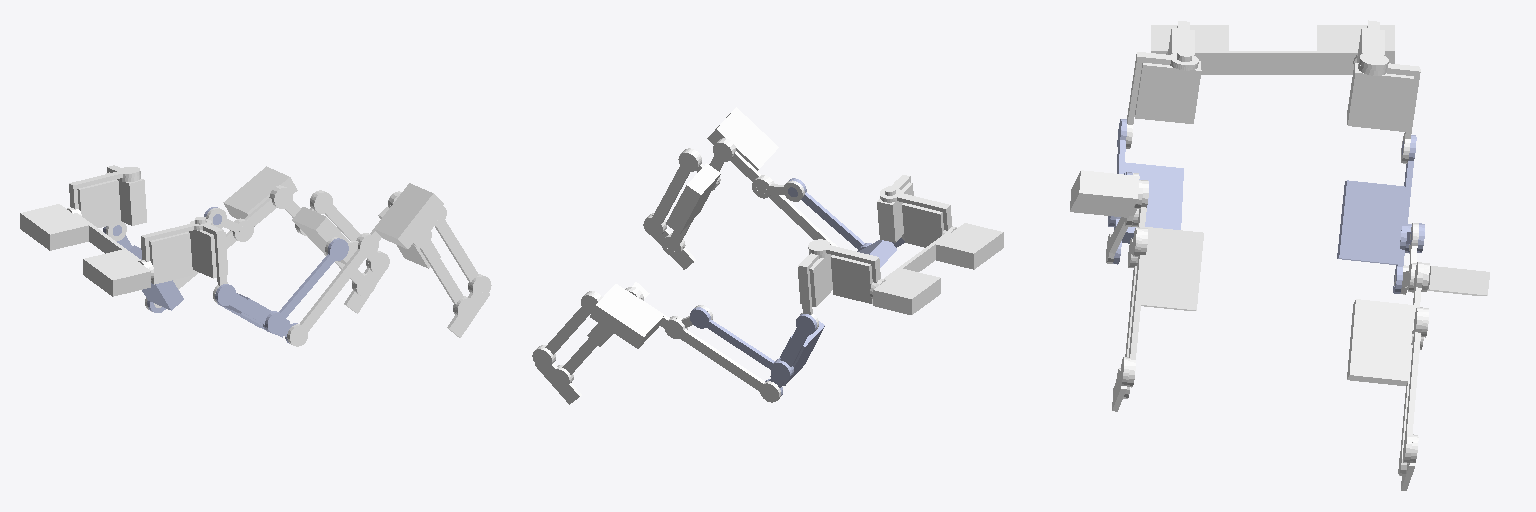
--- What the picture shows (computed from the rendered views, not written in the file) ---
The picture shows the robot from 3 angles, left to right: view 1: azimuth 30°, elevation 25°; view 2: azimuth 150°, elevation 25°; view 3: azimuth 270°, elevation 25°; orthographic projection.
Model assembly1_2.SLDASM with 25 links and 24 joints (3 continuous, 21 fixed), rooted at base_link, posed every joint at zero.
Visible links, largest first — view 1: base_link, knee l 2, knee r 2, hip l 1, hip r 1, ankle r 1, hip l 2, hip r 2, knee l 3, ankle l 1, knee l 1, ankle r 3 (+5 smaller); view 2: base_link, knee r 2, knee l 2, ankle l 1, hip r 1, hip l 1, hip r 2, knee r 1, hip l 2, knee r 3, ankle l 3, toe r 2 (+5 smaller); view 3: base_link, knee r 1, ankle r 1, ankle l 1, hip l 2, hip r 2, knee l 2, knee l 1, knee r 2, ankle r 3, ankle l 3, hip r 1 (+1 smaller).
Boxes of the visible links, x1,y1,x2,y2 form: base_link: (20, 204, 150, 296); knee l 2: (287, 183, 443, 346); knee r 2: (145, 166, 297, 311); hip l 1: (141, 220, 211, 284); hip r 1: (69, 167, 140, 227); ankle r 1: (272, 187, 374, 296); hip l 2: (189, 217, 227, 303); hip r 2: (106, 165, 146, 241); knee l 3: (265, 238, 348, 333); ankle l 1: (378, 191, 465, 314); knee l 1: (215, 284, 297, 343); ankle r 3: (312, 191, 389, 273); base_link: (873, 223, 1003, 314); knee r 2: (590, 284, 780, 402); knee l 2: (707, 107, 837, 246); ankle l 1: (662, 140, 734, 255); hip r 1: (808, 239, 880, 303); hip l 1: (881, 188, 952, 247); hip r 2: (798, 242, 832, 329); knee r 1: (765, 314, 824, 395); hip l 2: (877, 175, 913, 242); knee r 3: (690, 307, 791, 381); ankle l 3: (643, 151, 699, 236); toe r 2: (532, 347, 579, 404); base_link: (1151, 25, 1394, 74); knee r 1: (1337, 135, 1416, 293); ankle r 1: (1347, 262, 1423, 475); ankle l 1: (1123, 180, 1203, 398); hip l 2: (1126, 50, 1201, 148); hip r 2: (1347, 55, 1420, 163); knee l 2: (1070, 170, 1143, 263); knee l 1: (1113, 119, 1183, 264); knee r 2: (1394, 263, 1489, 295); ankle r 3: (1403, 307, 1422, 463); ankle l 3: (1121, 228, 1147, 387); hip r 1: (1353, 20, 1388, 70).
Bounding box of the posed robot: 0.481 × 0.3542 × 0.2716 m (x, y, z).
Meshes: 25 distinct files referenced, 23 mesh visuals loaded (23 binary STL); not drawn: 2 (reference not matched to a file when rendering).

URDF robot description (assembly1_2.SLDASM):
<?xml version="1.0" encoding="utf-8"?>
<!-- This URDF was automatically created by SolidWorks to URDF Exporter! Originally created by Stephen Brawner ([email redacted]) 
     Commit Version: 1.6.0-1-g15f4949  Build Version: 1.6.7594.29634
     For more information, please see http://wiki.ros.org/sw_urdf_exporter -->
<robot
  name="assembly1_2.SLDASM">
  <link
    name="base_link">
    <inertial>
      <origin
        xyz="-0.191106719385108 -0.0780612386754589 0.0973799886130136"
        rpy="0 0 0" />
      <mass
        value="0.149382516846965" />
      <inertia
        ixx="0.000744795170187658"
        ixy="-3.84089187962171E-20"
        ixz="-6.18144286387083E-21"
        iyy="4.41983562997799E-05"
        iyz="-1.49309295627939E-20"
        izz="0.000778901005787022" />
    </inertial>
    <visual>
      <origin
        xyz="0 0 0"
        rpy="0 0 0" />
      <geometry>
        <mesh
          filename="package://assembly1_2.SLDASM/meshes/base_link.STL" />
      </geometry>
      <material
        name="">
        <color
          rgba="1 1 1 1" />
      </material>
    </visual>
    <collision>
      <origin
        xyz="0 0 0"
        rpy="0 0 0" />
      <geometry>
        <mesh
          filename="package://assembly1_2.SLDASM/meshes/base_link.STL" />
      </geometry>
    </collision>
  </link>
  <link
    name="hip r 1">
    <inertial>
      <origin
        xyz="1.73472347597681E-18 0.0120268950920231 0.058098429367129"
        rpy="0 0 0" />
      <mass
        value="0.0591929214873841" />
      <inertia
        ixx="3.31698592544822E-05"
        ixy="4.65868120989865E-21"
        ixz="2.85873619698326E-21"
        iyy="2.04750891988638E-05"
        iyz="2.87486448422093E-06"
        izz="1.64834624293157E-05" />
    </inertial>
    <visual>
      <origin
        xyz="0 0 0"
        rpy="0 0 0" />
      <geometry>
        <mesh
          filename="package://assembly1_2.SLDASM/meshes/hip r 1.STL" />
      </geometry>
      <material
        name="">
        <color
          rgba="1 1 1 1" />
      </material>
    </visual>
    <collision>
      <origin
        xyz="0 0 0"
        rpy="0 0 0" />
      <geometry>
        <mesh
          filename="package://assembly1_2.SLDASM/meshes/hip r 1.STL" />
      </geometry>
    </collision>
  </link>
  <joint
    name="hip r 1"
    type="continuous">
    <origin
      xyz="-0.076807 0.0019388 0.09738"
      rpy="1.5708 -0.13329 -1.5708" />
    <parent
      link="base_link" />
    <child
      link="hip r 1" />
    <axis
      xyz="0 0 1" />
  </joint>
  <link
    name="hip r 2">
    <inertial>
      <origin
        xyz="1.38777878078145E-17 0.0120268950920231 0.00559842936712893"
        rpy="0 0 0" />
      <mass
        value="0.0591929214873841" />
      <inertia
        ixx="3.31698592544822E-05"
        ixy="-8.470329472543E-22"
        ixz="-3.91752738105114E-21"
        iyy="2.04750891988638E-05"
        iyz="2.87486448422093E-06"
        izz="1.64834624293157E-05" />
    </inertial>
    <visual>
      <origin
        xyz="0 0 0"
        rpy="0 0 0" />
      <geometry>
        <mesh
          filename="package://assembly1_2.SLDASM/meshes/hip r 2.STL" />
      </geometry>
      <material
        name="">
        <color
          rgba="1 1 1 1" />
      </material>
    </visual>
    <collision>
      <origin
        xyz="0 0 0"
        rpy="0 0 0" />
      <geometry>
        <mesh
          filename="package://assembly1_2.SLDASM/meshes/hip r 2.STL" />
      </geometry>
    </collision>
  </link>
  <joint
    name="hip r 2"
    type="continuous">
    <origin
      xyz="0 0 0.0125"
      rpy="1.5708 1.5337 3.1416" />
    <parent
      link="hip r 1" />
    <child
      link="hip r 2" />
    <axis
      xyz="0 0 1" />
  </joint>
  <link
    name="knee r 1">
    <inertial>
      <origin
        xyz="-0.0030756238754094 -0.0625136599464606 -0.0190191967667686"
        rpy="0 0 0" />
      <mass
        value="0.0774385053688012" />
      <inertia
        ixx="6.61264522065945E-05"
        ixy="-2.093228038064E-06"
        ixz="2.04803762600533E-07"
        iyy="2.36834854159962E-05"
        iyz="4.16274332935502E-06"
        izz="4.77952428865367E-05" />
    </inertial>
    <visual>
      <origin
        xyz="0 0 0"
        rpy="0 0 0" />
      <geometry>
        <mesh
          filename="package://assembly1_2.SLDASM/meshes/knee r 1.STL" />
      </geometry>
      <material
        name="">
        <color
          rgba="0.792156862745098 0.819607843137255 0.933333333333333 1" />
      </material>
    </visual>
    <collision>
      <origin
        xyz="0 0 0"
        rpy="0 0 0" />
      <geometry>
        <mesh
          filename="package://assembly1_2.SLDASM/meshes/knee r 1.STL" />
      </geometry>
    </collision>
  </link>
  <joint
    name="knee r 1"
    type="continuous">
    <origin
      xyz="0 0 -0.04"
      rpy="1.5708 -0.52466 0" />
    <parent
      link="hip r 2" />
    <child
      link="knee r 1" />
    <axis
      xyz="0 0 1" />
  </joint>
  <link
    name="knee r 2">
    <inertial>
      <origin
        xyz="0.00240716222491634 -0.156089099156079 -0.0522148574584647"
        rpy="0 0 0" />
      <mass
        value="0.083279839836233" />
      <inertia
        ixx="0.000228137954582334"
        ixy="3.42048794543038E-06"
        ixz="5.81808969974627E-07"
        iyy="2.7149236461316E-05"
        iyz="-3.41971375908056E-05"
        izz="0.000206358513925763" />
    </inertial>
    <visual>
      <origin
        xyz="0 0 0"
        rpy="0 0 0" />
      <geometry>
        <mesh
          filename="package://assembly1_2.SLDASM/meshes/knee r 2.STL" />
      </geometry>
      <material
        name="">
        <color
          rgba="1 1 1 1" />
      </material>
    </visual>
    <collision>
      <origin
        xyz="0 0 0"
        rpy="0 0 0" />
      <geometry>
        <mesh
          filename="package://assembly1_2.SLDASM/meshes/knee r 2.STL" />
      </geometry>
    </collision>
  </link>
<!--  important -->
  <joint
    name="knee r 2"
    type="fixed">
    <origin
      xyz="0 -0.11 -0.016999"
      rpy="0 0 1.4832" />
    <parent
      link="knee r 1" />
    <child
      link="knee r 2" />
    <axis
      xyz="0 0 1" />
  </joint>
  <link
    name="knee r 5">
    <inertial>
      <origin
        xyz="0.00271053743745577 0.0246252577409291 0.00250000000000004"
        rpy="0 0 0" />
      <mass
        value="0.00436559859124243" />
      <inertia
        ixx="1.63153940888603E-06"
        ixy="-7.58353672029307E-08"
        ixz="-1.05879118406788E-22"
        iyy="1.97587444260464E-07"
        iyz="-4.19587365717523E-22"
        izz="1.81093685901632E-06" />
    </inertial>
    <visual>
      <origin
        xyz="0 0 0"
        rpy="0 0 0" />
      <geometry>
        <mesh
          filename="package://assembly1_2.SLDASM/meshes/knee r 5.STL" />
      </geometry>
      <material
        name="">
        <color
          rgba="1 1 1 1" />
      </material>
    </visual>
    <collision>
      <origin
        xyz="0 0 0"
        rpy="0 0 0" />
      <geometry>
        <mesh
          filename="package://assembly1_2.SLDASM/meshes/knee r 5.STL" />
      </geometry>
    </collision>
  </link>
  <joint
    name="knee r 5"
    type="fixed">
    <origin
      xyz="-0.0028853 -0.12592 -0.028001"
      rpy="0 0 -0.95568" />
    <parent
      link="knee r 2" />
    <child
      link="knee r 5" />
    <axis
      xyz="0 0 0" />
  </joint>
  <link
    name="ankle r 1">
    <inertial>
      <origin
        xyz="-0.000766308049808151 0.0582275198568301 -0.00285524924798864"
        rpy="0 0 0" />
      <mass
        value="0.0800025169400913" />
      <inertia
        ixx="9.22968885238143E-05"
        ixy="6.24310148522411E-06"
        ixz="-3.31404429264859E-07"
        iyy="2.58488738188548E-05"
        iyz="3.55814678273364E-06"
        izz="7.27814178413502E-05" />
    </inertial>
    <visual>
      <origin
        xyz="0 0 0"
        rpy="0 0 0" />
      <geometry>
        <mesh
          filename="package://assembly1_2.SLDASM/meshes/ankle r 1.STL" />
      </geometry>
      <material
        name="">
        <color
          rgba="1 1 1 1" />
      </material>
    </visual>
    <collision>
      <origin
        xyz="0 0 0"
        rpy="0 0 0" />
      <geometry>
        <mesh
          filename="package://assembly1_2.SLDASM/meshes/ankle r 1.STL" />
      </geometry>
    </collision>
  </link>
  <joint
    name="ankle r 1"
    type="fixed">
    <origin
      xyz="0 -0.19 0"
      rpy="0 0 1.7042" />
    <parent
      link="knee r 2" />
    <child
      link="ankle r 1" />
    <axis
      xyz="0 0 1" />
  </joint>
  <link
    name="toe r 1">
    <inertial>
      <origin
        xyz="0.00274071160128481 -0.014184846338064 0.0185053650624499"
        rpy="0 0 0" />
      <mass
        value="0.00815609880038383" />
      <inertia
        ixx="2.87789154145384E-06"
        ixy="1.59762082453015E-07"
        ixz="-1.06777123441861E-08"
        iyy="4.33832140360492E-07"
        iyz="1.14805406264071E-08"
        izz="3.24725696974408E-06" />
    </inertial>
    <visual>
      <origin
        xyz="0 0 0"
        rpy="0 0 0" />
      <geometry>
        <mesh
          filename="package://assembly1_2.SLDASM/meshes/toe r 1.STL" />
      </geometry>
      <material
        name="">
        <color
          rgba="1 1 1 1" />
      </material>
    </visual>
    <collision>
      <origin
        xyz="0 0 0"
        rpy="0 0 0" />
      <geometry>
        <mesh
          filename="package://assembly1_2.SLDASM/meshes/toe r 1.STL" />
      </geometry>
    </collision>
  </link>
  <joint
    name="toe r 1"
    type="fixed">
    <origin
      xyz="0 0.16 -0.011588"
      rpy="3.1416 0 1.9361" />
    <parent
      link="ankle r 1" />
    <child
      link="toe r 1" />
    <axis
      xyz="0 0 1" />
  </joint>
  <link
    name="ankle r 2">
    <inertial>
      <origin
        xyz="-0.00227204931620831 0.0121046634852384 -0.0158438213964389"
        rpy="0 0 0" />
      <mass
        value="0.00519292148738412" />
      <inertia
        ixx="1.2296797065945E-06"
        ixy="-1.28238402112675E-07"
        ixz="4.66679054952579E-09"
        iyy="2.35917450537626E-07"
        iyz="3.67570310623821E-08"
        izz="1.41501774738188E-06" />
    </inertial>
    <visual>
      <origin
        xyz="0 0 0"
        rpy="0 0 0" />
      <geometry>
        <mesh
          filename="package://assembly1_2.SLDASM/meshes/ankle r 2.STL" />
      </geometry>
      <material
        name="">
        <color
          rgba="1 1 1 1" />
      </material>
    </visual>
    <collision>
      <origin
        xyz="0 0 0"
        rpy="0 0 0" />
      <geometry>
        <mesh
          filename="package://assembly1_2.SLDASM/meshes/ankle r 2.STL" />
      </geometry>
    </collision>
  </link>
  <joint
    name="ankle r 2"
    type="fixed">
    <origin
      xyz="0 0.05 -0.014018"
      rpy="0 0 1.9361" />
    <parent
      link="ankle r 1" />
    <child
      link="ankle r 2" />
    <axis
      xyz="0 0 1" />
  </joint>
  <link
    name="ankle r 3">
    <inertial>
      <origin
        xyz="0.0123730452615019 0.0545747651396354 0.00306063866994204"
        rpy="0 0 0" />
      <mass
        value="0.0118375967205313" />
      <inertia
        ixx="2.24008924792228E-05"
        ixy="-2.05477484647792E-06"
        ixz="0"
        iyy="5.31039884756811E-07"
        iyz="-3.25578289100872E-21"
        izz="2.28236843849345E-05" />
    </inertial>
    <visual>
      <origin
        xyz="0 0 0"
        rpy="0 0 0" />
      <geometry>
        <mesh
          filename="package://assembly1_2.SLDASM/meshes/ankle r 3.STL" />
      </geometry>
      <material
        name="">
        <color
          rgba="1 1 1 1" />
      </material>
    </visual>
    <collision>
      <origin
        xyz="0 0 0"
        rpy="0 0 0" />
      <geometry>
        <mesh
          filename="package://assembly1_2.SLDASM/meshes/ankle r 3.STL" />
      </geometry>
    </collision>
  </link>
  <joint
    name="ankle r 3"
    type="fixed">
    <origin
      xyz="-0.0023219 0.023929 -0.0089828"
      rpy="3.1416 0 1.2055" />
    <parent
      link="ankle r 2" />
    <child
      link="ankle r 3" />
    <axis
      xyz="0 0 0" />
  </joint>
  <link
    name="toe r 2">
    <inertial>
      <origin
        xyz="0.00774071160112788 0.0158151536618433 0.00209315019084882"
        rpy="0 0 0" />
      <mass
        value="0.00815609880038383" />
      <inertia
        ixx="2.87789154145324E-06"
        ixy="1.59762082457608E-07"
        ixz="-1.06777123442075E-08"
        iyy="4.33832140361093E-07"
        iyz="1.14805406263862E-08"
        izz="3.24725696974408E-06" />
    </inertial>
    <visual>
      <origin
        xyz="0 0 0"
        rpy="0 0 0" />
      <geometry>
        <mesh
          filename="package://assembly1_2.SLDASM/meshes/toe r 2.STL" />
      </geometry>
      <material
        name="">
        <color
          rgba="1 1 1 1" />
      </material>
    </visual>
    <collision>
      <origin
        xyz="0 0 0"
        rpy="0 0 0" />
      <geometry>
        <mesh
          filename="package://assembly1_2.SLDASM/meshes/toe r 2.STL" />
      </geometry>
    </collision>
  </link>
  <joint
    name="toe r 2"
    type="fixed">
    <origin
      xyz="0.0047139 0.10533 0.005"
      rpy="0 0 1.2055" />
    <parent
      link="ankle r 3" />
    <child
      link="toe r 2" />
    <axis
      xyz="0 0 0" />
  </joint>
  <link
    name="knee r 3">
    <inertial>
      <origin
        xyz="0.00133111370072312 -0.0513017239779947 -0.0215826888826632"
        rpy="0 0 0" />
      <mass
        value="0.0105202443835258" />
      <inertia
        ixx="1.36876819779511E-05"
        ixy="3.9912661139951E-07"
        ixz="0"
        iyy="2.92089666106859E-07"
        iyz="-1.09849585347042E-21"
        izz="1.39027542200564E-05" />
    </inertial>
    <visual>
      <origin
        xyz="0 0 0"
        rpy="0 0 0" />
      <geometry>
        <mesh
          filename="package://assembly1_2.SLDASM/meshes/knee r 3.STL" />
      </geometry>
      <material
        name="">
        <color
          rgba="0.792156862745098 0.819607843137255 0.933333333333333 1" />
      </material>
    </visual>
    <collision>
      <origin
        xyz="0 0 0"
        rpy="0 0 0" />
      <geometry>
        <mesh
          filename="package://assembly1_2.SLDASM/meshes/knee r 3.STL" />
      </geometry>
    </collision>
  </link>
  <joint
    name="knee r 3"
    type="fixed">
    <origin
      xyz="0 -0.075 -0.025286"
      rpy="0 0 1.4633" />
    <parent
      link="knee r 1" />
    <child
      link="knee r 3" />
    <axis
      xyz="0 0 1" />
  </joint>
  <link
    name="knee r 4">
    <inertial>
      <origin
        xyz="0.00271053743745577 0.0246252577409291 0.00250000000000004"
        rpy="0 0 0" />
      <mass
        value="0.00436559859124243" />
      <inertia
        ixx="1.63153940888603E-06"
        ixy="-7.58353672029306E-08"
        ixz="-1.05879118406788E-22"
        iyy="1.97587444260464E-07"
        iyz="-4.00148621322527E-22"
        izz="1.81093685901632E-06" />
    </inertial>
    <visual>
      <origin
        xyz="0 0 0"
        rpy="0 0 0" />
      <geometry>
        <mesh
          filename="package://assembly1_2.SLDASM/meshes/knee r 4.STL" />
      </geometry>
      <material
        name="">
        <color
          rgba="1 1 1 1" />
      </material>
    </visual>
    <collision>
      <origin
        xyz="0 0 0"
        rpy="0 0 0" />
      <geometry>
        <mesh
          filename="package://assembly1_2.SLDASM/meshes/knee r 4.STL" />
      </geometry>
    </collision>
  </link>
  <joint
    name="knee r 4"
    type="fixed">
    <origin
      xyz="-0.035167 -0.12971 -0.019714"
      rpy="0 0 -0.9357" />
    <parent
      link="knee r 3" />
    <child
      link="knee r 4" />
    <axis
      xyz="0 0 0" />
  </joint>
  <link
    name="hip l 1">
    <inertial>
      <origin
        xyz="0 0.0120268950920231 0.058098429367129"
        rpy="0 0 0" />
      <mass
        value="0.0591929214873841" />
      <inertia
        ixx="3.31698592544822E-05"
        ixy="3.59989002583078E-21"
        ixz="1.58818677610181E-22"
        iyy="2.04750891988638E-05"
        iyz="2.87486448422093E-06"
        izz="1.64834624293157E-05" />
    </inertial>
    <visual>
      <origin
        xyz="0 0 0"
        rpy="0 0 0" />
      <geometry>
        <mesh
          filename="package://assembly1_2.SLDASM/meshes/hip l 1.STL" />
      </geometry>
      <material
        name="">
        <color
          rgba="1 1 1 1" />
      </material>
    </visual>
    <collision>
      <origin
        xyz="0 0 0"
        rpy="0 0 0" />
      <geometry>
        <mesh
          filename="package://assembly1_2.SLDASM/meshes/hip l 1.STL" />
      </geometry>
    </collision>
  </link>
  <joint
    name="hip l 1"
    type="fixed">
    <origin
      xyz="-0.076807 -0.15806 0.09738"
      rpy="1.5708 -0.13329 -1.5708" />
    <parent
      link="base_link" />
    <child
      link="hip l 1" />
    <axis
      xyz="0 0 1" />
  </joint>
  <link
    name="hip l 2">
    <inertial>
      <origin
        xyz="1.38777878078145E-17 0.0120268950920231 0.010598429367129"
        rpy="0 0 0" />
      <mass
        value="0.0591929214873841" />
      <inertia
        ixx="3.31698592544822E-05"
        ixy="2.5410988417629E-21"
        ixz="8.3048933500324E-21"
        iyy="2.04750891988638E-05"
        iyz="2.87486448422093E-06"
        izz="1.64834624293157E-05" />
    </inertial>
    <visual>
      <origin
        xyz="0 0 0"
        rpy="0 0 0" />
      <geometry>
        <mesh
          filename="package://assembly1_2.SLDASM/meshes/hip l 2.STL" />
      </geometry>
      <material
        name="">
        <color
          rgba="1 1 1 1" />
      </material>
    </visual>
    <collision>
      <origin
        xyz="0 0 0"
        rpy="0 0 0" />
      <geometry>
        <mesh
          filename="package://assembly1_2.SLDASM/meshes/hip l 2.STL" />
      </geometry>
    </collision>
  </link>
  <joint
    name="hip l 2"
    type="fixed">
    <origin
      xyz="0 0 0.0125"
      rpy="-1.5708 -1.522 0" />
    <parent
      link="hip l 1" />
    <child
      link="hip l 2" />
    <axis
      xyz="0 0 1" />
  </joint>
  <link
    name="knee l 1">
    <inertial>
      <origin
        xyz="4.01866040444787E-14 -0.0625892733791078 -0.0190191967667685"
        rpy="0 0 0" />
      <mass
        value="0.0774385053688013" />
      <inertia
        ixx="6.62294374123249E-05"
        ixy="2.73635317099482E-17"
        ixz="-2.66391861911477E-18"
        iyy="2.35805002102658E-05"
        iyz="4.16777837789692E-06"
        izz="4.77952428865367E-05" />
    </inertial>
    <visual>
      <origin
        xyz="0 0 0"
        rpy="0 0 0" />
      <geometry>
        <mesh
          filename="package://assembly1_2.SLDASM/meshes/knee l 1.STL" />
      </geometry>
      <material
        name="">
        <color
          rgba="0.792156862745098 0.819607843137255 0.933333333333333 1" />
      </material>
    </visual>
    <collision>
      <origin
        xyz="0 0 0"
        rpy="0 0 0" />
      <geometry>
        <mesh
          filename="package://assembly1_2.SLDASM/meshes/knee l 1.STL" />
      </geometry>
    </collision>
  </link>
  <joint
    name="knee l 1"
    type="fixed">
    <origin
      xyz="0 0 -0.035"
      rpy="1.5708 0.91663 0" />
    <parent
      link="hip l 2" />
    <child
      link="knee l 1" />
    <axis
      xyz="0 0 1" />
  </joint>
  <link
    name="knee l 2">
    <inertial>
      <origin
        xyz="6.44720388187636E-13 -0.161508763059346 -0.0589766016664935"
        rpy="0 0 0" />
      <mass
        value="0.0832798398362331" />
      <inertia
        ixx="0.000228196148650859"
        ixy="7.98529934870388E-16"
        ixz="1.35797169136757E-16"
        iyy="2.70910423927903E-05"
        iyz="-3.42020865018793E-05"
        izz="0.000206358513925763" />
    </inertial>
    <visual>
      <origin
        xyz="0 0 0"
        rpy="0 0 0" />
      <geometry>
        <mesh
          filename="package://assembly1_2.SLDASM/meshes/knee l 2.STL" />
      </geometry>
      <material
        name="">
        <color
          rgba="1 1 1 1" />
      </material>
    </visual>
    <collision>
      <origin
        xyz="0 0 0"
        rpy="0 0 0" />
      <geometry>
        <mesh
          filename="package://assembly1_2.SLDASM/meshes/knee l 2.STL" />
      </geometry>
    </collision>
  </link>
  <joint
    name="knee l 2"
    type="fixed">
    <origin
      xyz="0 -0.11 -0.010238"
      rpy="0 0 -1.3442" />
    <parent
      link="knee l 1" />
    <child
      link="knee l 2" />
    <axis
      xyz="0 0 1" />
  </joint>
  <link
    name="knee l 5">
    <inertial>
      <origin
        xyz="0.00499999999963306 0.0199999999993625 0.00250000000000036"
        rpy="0 0 0" />
      <mass
        value="0.00436559859124245" />
      <inertia
        ixx="1.63553885065662E-06"
        ixy="4.70817887057321E-18"
        ixz="2.64697796016969E-23"
        iyy="1.93588002489886E-07"
        iyz="3.37489689921635E-22"
        izz="1.81093685901633E-06" />
    </inertial>
    <visual>
      <origin
        xyz="0 0 0"
        rpy="0 0 0" />
      <geometry>
        <mesh
          filename="package://assembly1_2.SLDASM/meshes/knee l 5.STL" />
      </geometry>
      <material
        name="">
        <color
          rgba="1 1 1 1" />
      </material>
    </visual>
    <collision>
      <origin
        xyz="0 0 0"
        rpy="0 0 0" />
      <geometry>
        <mesh
          filename="package://assembly1_2.SLDASM/meshes/knee l 5.STL" />
      </geometry>
    </collision>
  </link>
  <joint
    name="knee l 5"
    type="fixed">
    <origin
      xyz="0.0035005 -0.12643 -0.029762"
      rpy="3.1416 0 -2.3463" />
    <parent
      link="knee l 2" />
    <child
      link="knee l 5" />
    <axis
      xyz="0 0 0" />
  </joint>
  <link
    name="ankle l 1">
    <inertial>
      <origin
        xyz="3.63070684628042E-13 0.0620823996554604 -0.00961699345601741"
        rpy="0 0 0" />
      <mass
        value="0.0800025169400913" />
      <inertia
        ixx="9.2878368606253E-05"
        ixy="5.09278559536648E-20"
        ixz="-1.27054942088145E-20"
        iyy="2.5267393736416E-05"
        iyz="3.57354689674188E-06"
        izz="7.27814178413501E-05" />
    </inertial>
    <visual>
      <origin
        xyz="0 0 0"
        rpy="0 0 0" />
      <geometry>
        <mesh
          filename="package://assembly1_2.SLDASM/meshes/ankle l 1.STL" />
      </geometry>
      <material
        name="">
        <color
          rgba="1 1 1 1" />
      </material>
    </visual>
    <collision>
      <origin
        xyz="0 0 0"
        rpy="0 0 0" />
      <geometry>
        <mesh
          filename="package://assembly1_2.SLDASM/meshes/ankle l 1.STL" />
      </geometry>
    </collision>
  </link>
  <joint
    name="ankle l 1"
    type="fixed">
    <origin
      xyz="0 -0.19 0"
      rpy="0 0 -1.3683" />
    <parent
      link="knee l 2" />
    <child
      link="ankle l 1" />
    <axis
      xyz="0 0 1" />
  </joint>
  <link
    name="ankle l 2">
    <inertial>
      <origin
        xyz="-8.511941151923E-13 0.0111659648639497 -0.016164096056952"
        rpy="0 0 0" />
      <mass
        value="0.00519292148738413" />
      <inertia
        ixx="1.24596126540838E-06"
        ixy="9.86945171193663E-19"
        ixz="-3.55687663397802E-20"
        iyy="2.19635891723748E-07"
        iyz="3.70521020531085E-08"
        izz="1.41501774738188E-06" />
    </inertial>
    <visual>
      <origin
        xyz="0 0 0"
        rpy="0 0 0" />
      <geometry>
        <mesh
          filename="package://assembly1_2.SLDASM/meshes/ankle l 2.STL" />
      </geometry>
      <material
        name="">
        <color
          rgba="1 1 1 1" />
      </material>
    </visual>
    <collision>
      <origin
        xyz="0 0 0"
        rpy="0 0 0" />
      <geometry>
        <mesh
          filename="package://assembly1_2.SLDASM/meshes/ankle l 2.STL" />
      </geometry>
    </collision>
  </link>
  <joint
    name="ankle l 2"
    type="fixed">
    <origin
      xyz="0 0.05 -0.020459"
      rpy="0 0 -1.8524" />
    <parent
      link="ankle l 1" />
    <child
      link="ankle l 2" />
    <axis
      xyz="0 0 1" />
  </joint>
  <link
    name="ankle l 3">
    <inertial>
      <origin
        xyz="0.00649999999970655 0.0550000000005425 0.00306063866994211"
        rpy="0 0 0" />
      <mass
        value="0.0118375967205313" />
      <inertia
        ixx="2.25922734218442E-05"
        ixy="-3.29100010558816E-20"
        ixz="-1.27054942088145E-21"
        iyy="3.39658942135426E-07"
        iyz="-2.61719945811778E-20"
        izz="2.28236843849345E-05" />
    </inertial>
    <visual>
      <origin
        xyz="0 0 0"
        rpy="0 0 0" />
      <geometry>
        <mesh
          filename="package://assembly1_2.SLDASM/meshes/ankle l 3.STL" />
      </geometry>
      <material
        name="">
        <color
          rgba="1 1 1 1" />
      </material>
    </visual>
    <collision>
      <origin
        xyz="0 0 0"
        rpy="0 0 0" />
      <geometry>
        <mesh
          filename="package://assembly1_2.SLDASM/meshes/ankle l 3.STL" />
      </geometry>
    </collision>
  </link>
  <joint
    name="ankle l 3"
    type="fixed">
    <origin
      xyz="-0.0018061 0.036244 -0.0093031"
      rpy="3.1416 0 -1.2892" />
    <parent
      link="ankle l 2" />
    <child
      link="ankle l 3" />
    <axis
      xyz="0 0 0" />
  </joint>
  <link
    name="toe l 2">
    <inertial>
      <origin
        xyz="0.00775642955128433 0.0261625031033984 0.00290684980915118"
        rpy="0 0 0" />
      <mass
        value="0.00815609880038382" />
      <inertia
        ixx="2.87904339006944E-06"
        ixy="-1.50689780001435E-07"
        ixz="9.1466801350844E-09"
        iyy="4.32680291744886E-07"
        iyz="-1.27339937366981E-08"
        izz="3.24725696974407E-06" />
    </inertial>
    <visual>
      <origin
        xyz="0 0 0"
        rpy="0 0 0" />
      <geometry>
        <mesh
          filename="package://assembly1_2.SLDASM/meshes/toe l 2.STL" />
      </geometry>
      <material
        name="">
        <color
          rgba="1 1 1 1" />
      </material>
    </visual>
    <collision>
      <origin
        xyz="0 0 0"
        rpy="0 0 0" />
      <geometry>
        <mesh
          filename="package://assembly1_2.SLDASM/meshes/toe l 2.STL" />
      </geometry>
    </collision>
  </link>
  <joint
    name="toe l 2"
    type="fixed">
    <origin
      xyz="0.0078893 0.1052 0.01"
      rpy="3.1416 0 1.8524" />
    <parent
      link="ankle l 3" />
    <child
      link="toe l 2" />
    <axis
      xyz="0 0 0" />
  </joint>
  <link
    name="toe l 1">
    <inertial>
      <origin
        xyz="0.183369600875712 -0.123088815264641 -0.212133797441015"
        rpy="0 0 0" />
      <mass
        value="0.00815609880038382" />
      <inertia
        ixx="2.87904339006944E-06"
        ixy="-1.50689780001435E-07"
        ixz="9.14668013508439E-09"
        iyy="4.32680291744886E-07"
        iyz="-1.27339937366982E-08"
        izz="3.24725696974407E-06" />
    </inertial>
    <visual>
      <origin
        xyz="0 0 0"
        rpy="0 0 0" />
      <geometry>
        <mesh
          filename="package://assembly1_2.SLDASM/meshes/toe l 1.STL" />
      </geometry>
      <material
        name="">
        <color
          rgba="1 1 1 1" />
      </material>
    </visual>
    <collision>
      <origin
        xyz="0 0 0"
        rpy="0 0 0" />
      <geometry>
        <mesh
          filename="package://assembly1_2.SLDASM/meshes/toe l 1.STL" />
      </geometry>
    </collision>
  </link>
  <joint
    name="toe l 1"
    type="fixed">
    <origin
      xyz="-0.16474 0.019635 0.17528"
      rpy="0 0 1.2892" />
    <parent
      link="ankle l 1" />
    <child
      link="toe l 1" />
    <axis
      xyz="0 0 1" />
  </joint>
  <link
    name="knee l 3">
    <inertial>
      <origin
        xyz="2.43183945203285E-13 -0.0549999999999739 -0.0253082727154713"
        rpy="0 0 0" />
      <mass
        value="0.0105202443835258" />
      <inertia
        ixx="1.36995635637846E-05"
        ixy="4.75739764730425E-17"
        ixz="1.05879118406788E-22"
        iyy="2.80208080273239E-07"
        iyz="8.20232295407582E-21"
        izz="1.39027542200563E-05" />
    </inertial>
    <visual>
      <origin
        xyz="0 0 0"
        rpy="0 0 0" />
      <geometry>
        <mesh
          filename="package://assembly1_2.SLDASM/meshes/knee l 3.STL" />
      </geometry>
      <material
        name="">
        <color
          rgba="0.792156862745098 0.819607843137255 0.933333333333333 1" />
      </material>
    </visual>
    <collision>
      <origin
        xyz="0 0 0"
        rpy="0 0 0" />
      <geometry>
        <mesh
          filename="package://assembly1_2.SLDASM/meshes/knee l 3.STL" />
      </geometry>
    </collision>
  </link>
  <joint
    name="knee l 3"
    type="fixed">
    <origin
      xyz="0 -0.075 -0.021561"
      rpy="0 0 -1.2938" />
    <parent
      link="knee l 1" />
    <child
      link="knee l 3" />
    <axis
      xyz="0 0 1" />
  </joint>
  <link
    name="knee l 4">
    <inertial>
      <origin
        xyz="0.0049999999995757 0.0199999999992949 0.00250000000000031"
        rpy="0 0 0" />
      <mass
        value="0.00436559859124244" />
      <inertia
        ixx="1.63553885065662E-06"
        ixy="4.70906839992444E-18"
        ixz="-2.64697796016969E-23"
        iyy="1.93588002489886E-07"
        iyz="2.83309359799412E-22"
        izz="1.81093685901633E-06" />
    </inertial>
    <visual>
      <origin
        xyz="0 0 0"
        rpy="0 0 0" />
      <geometry>
        <mesh
          filename="package://assembly1_2.SLDASM/meshes/knee l 4.STL" />
      </geometry>
      <material
        name="">
        <color
          rgba="1 1 1 1" />
      </material>
    </visual>
    <collision>
      <origin
        xyz="0 0 0"
        rpy="0 0 0" />
      <geometry>
        <mesh
          filename="package://assembly1_2.SLDASM/meshes/knee l 4.STL" />
      </geometry>
    </collision>
  </link>
  <joint
    name="knee l 4"
    type="fixed">
    <origin
      xyz="0.03079 -0.13602 -0.018439"
      rpy="-3.1416 0 -2.3968" />
    <parent
      link="knee l 3" />
    <child
      link="knee l 4" />
    <axis
      xyz="0 0 0" />
  </joint>
</robot>
